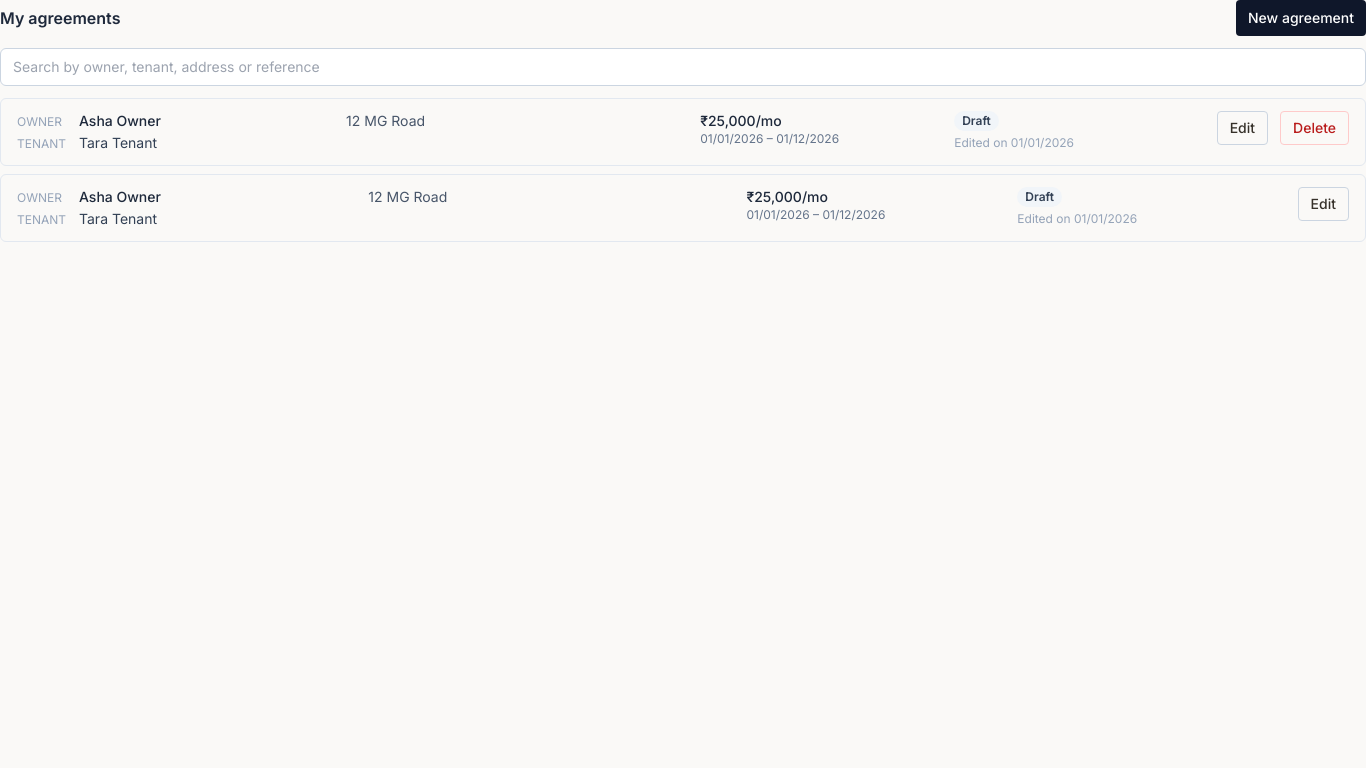
it: MyAgreements › delete › a 404 says it no longer exists and removes the row
Click the button with test id "delete-d1" at {"x": 1315, "y": 128}, box [1280, 111, 1349, 145]
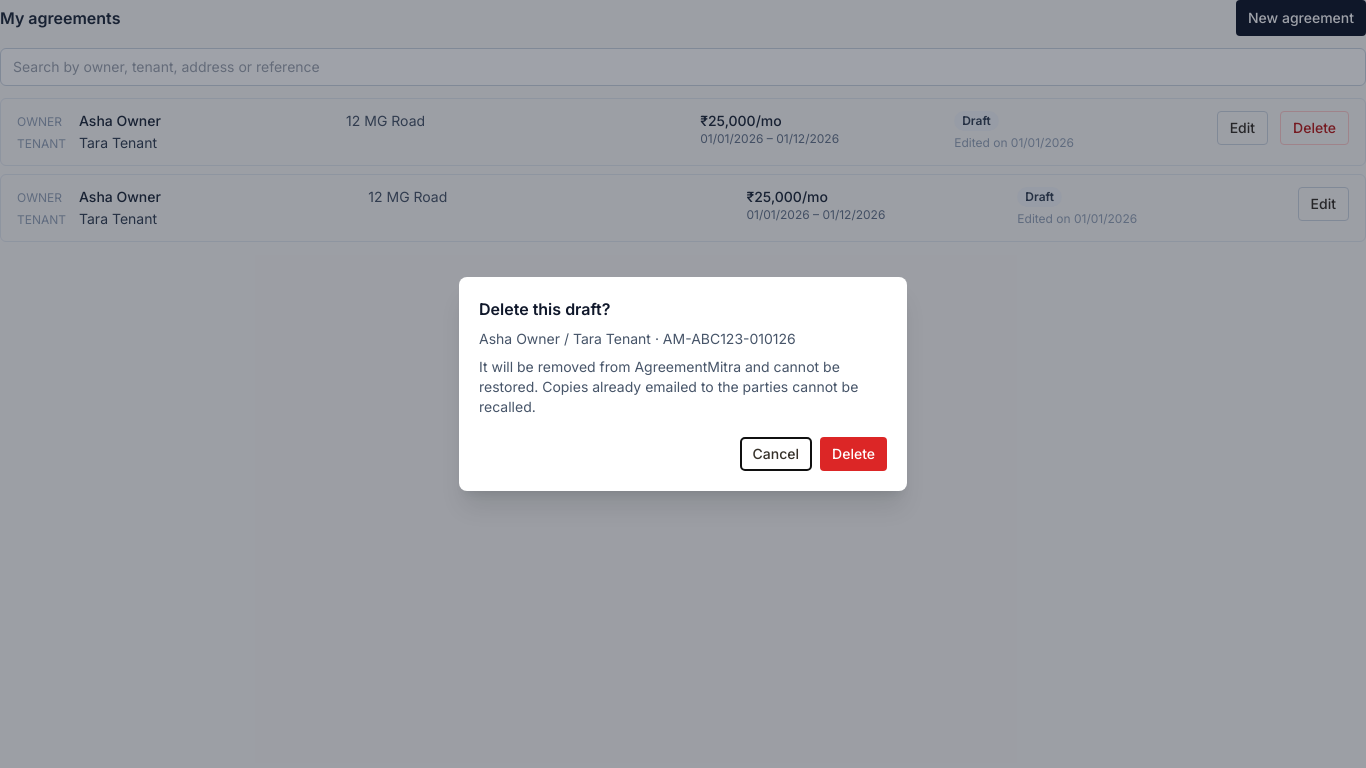
Click the button with test id "confirm-ok" at {"x": 854, "y": 454}, box [820, 437, 887, 471]
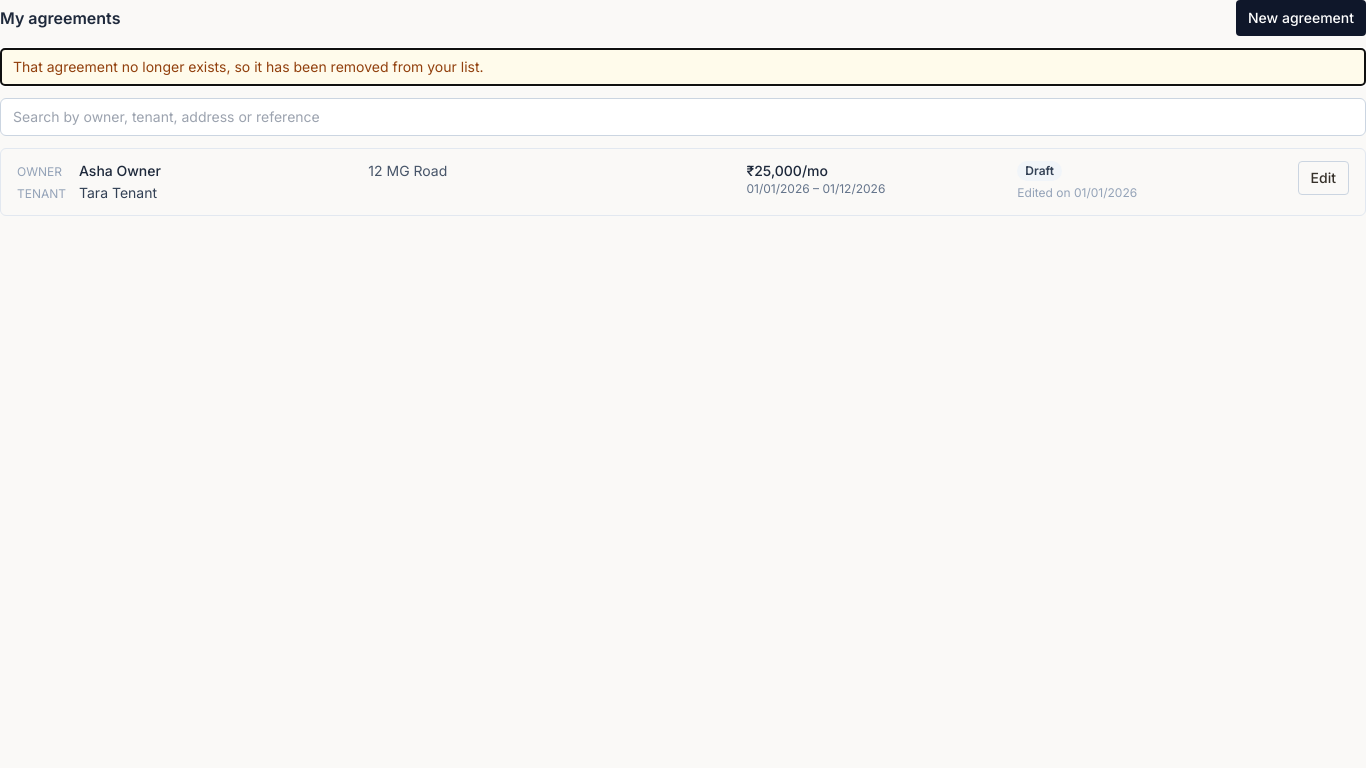
Expected: the message with test id "list-notice" shows "no longer exists", [13, 58, 484, 75]
